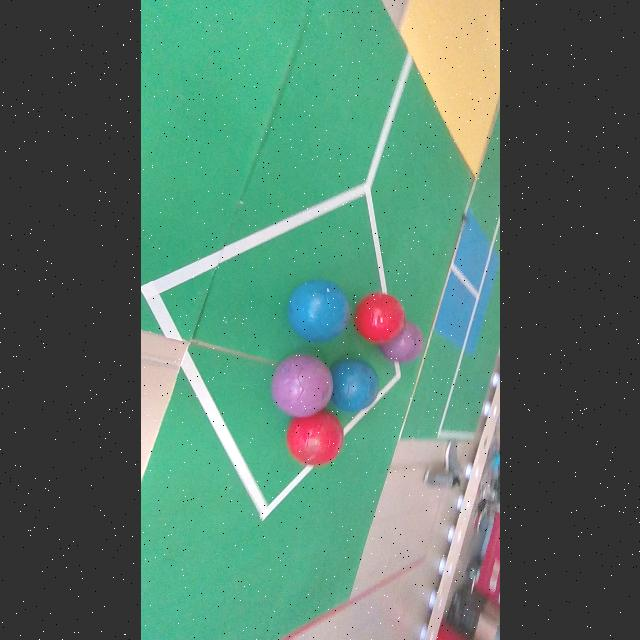B: (289, 279, 350, 342), (331, 359, 379, 411)
P: (272, 355, 333, 417), (380, 321, 423, 363)
R: (287, 409, 343, 465), (354, 292, 406, 344)
